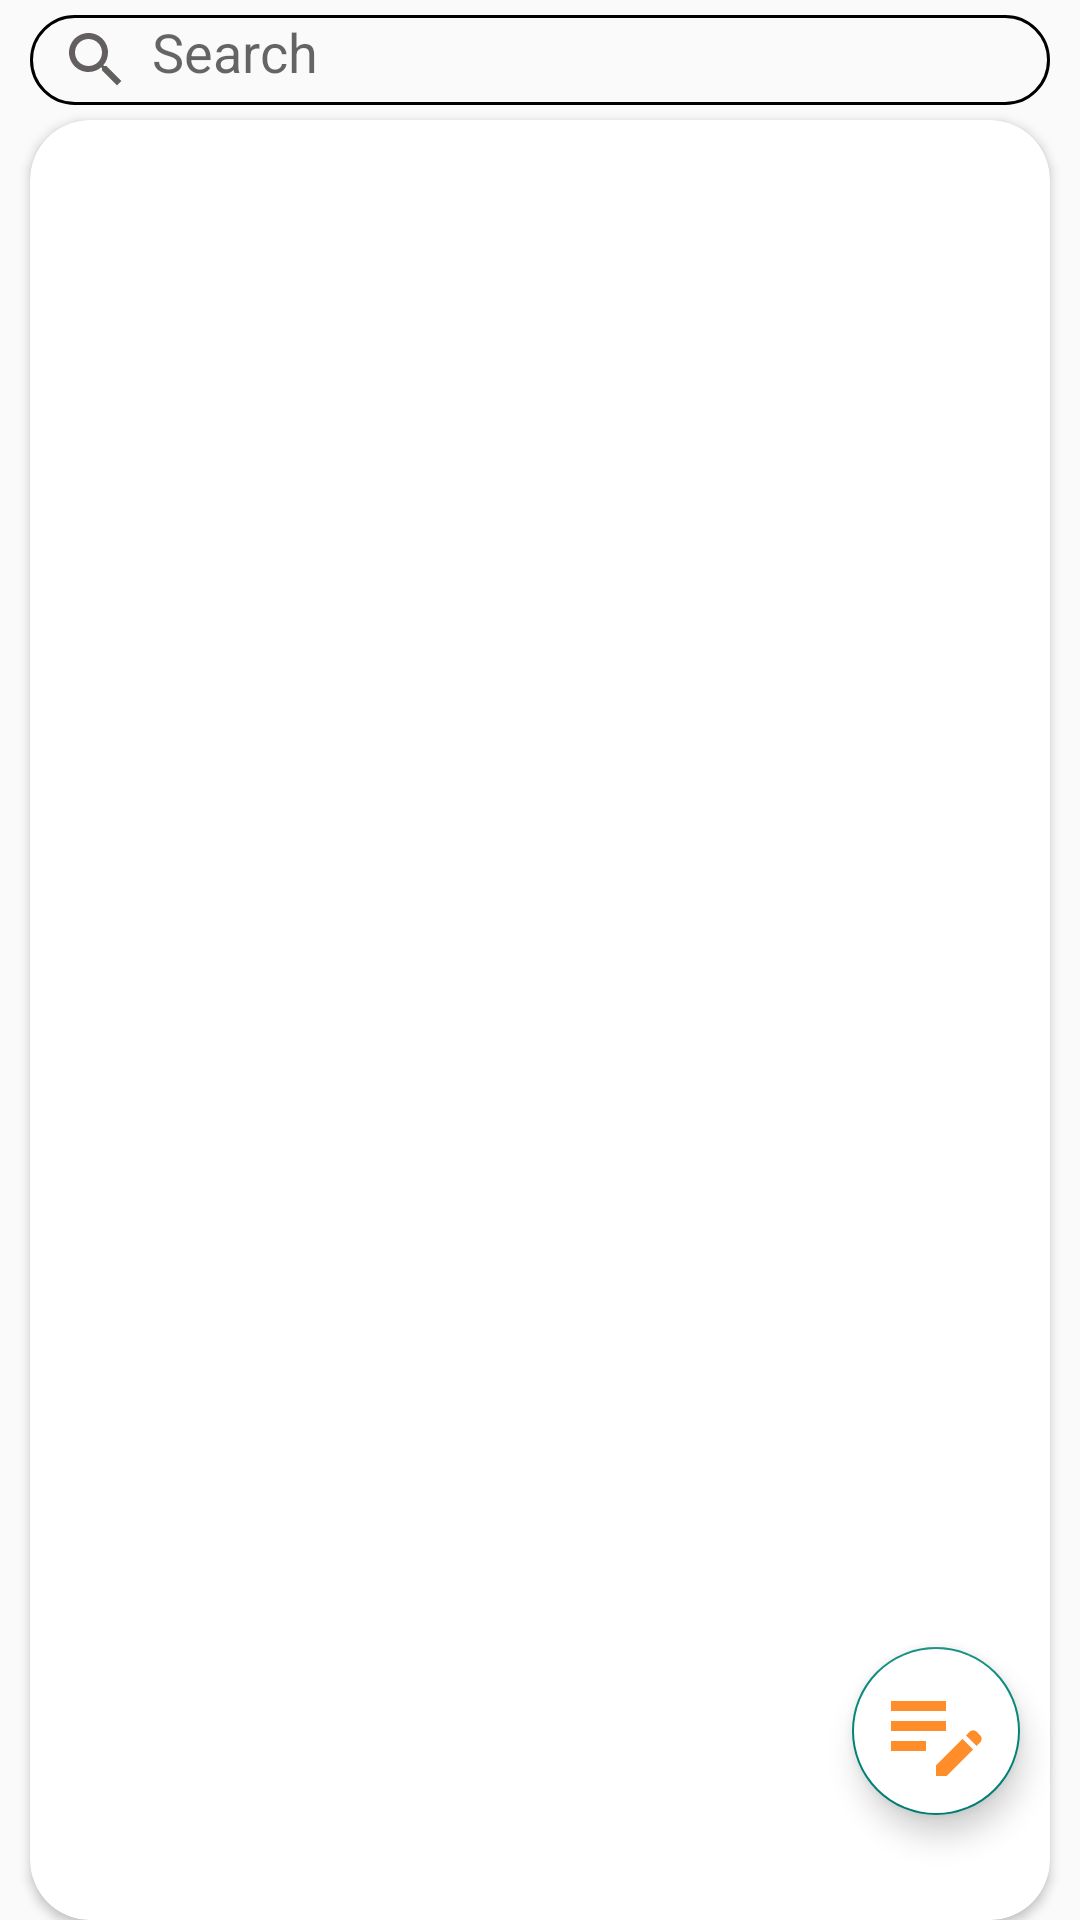

Icon click points for this 1080px x 1920px phone screenshot, format (x=x, y=y):
edit note: (x=936, y=1731)
